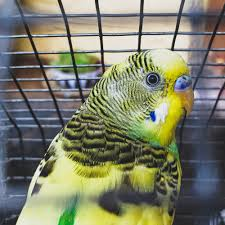budgie: (15, 48, 194, 225)
